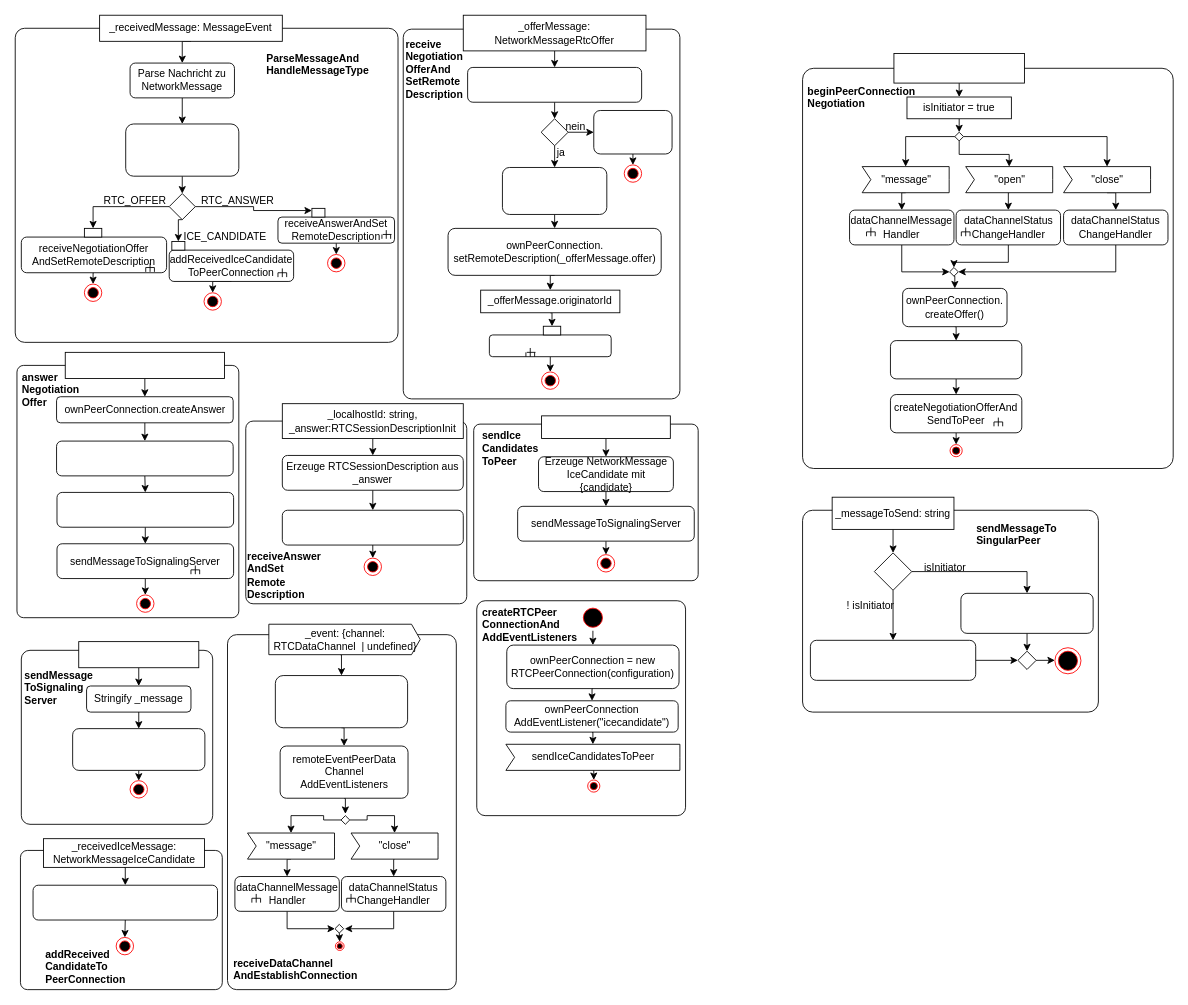
This 1188x1005 diagram has some shape labels left out. The shapes that lost their labels are listed below. From the top down, each one's centre as x and y in pixels, then its label:
point (554, 84): Hat der ClientManager eine ownPeerConnection?
point (958, 68): _userNameForOffer: string
point (182, 149): Behandle Nachricht entsprechend ihres MESSAGE_TYPE
point (632, 132): Gib eine Fehlermeldung aus
point (554, 190): ownPeerConnection addEventListener ("datachannel")
point (144, 364): _remoteIdToAnswerTo: string
point (550, 345): answerNegotiationOffer
point (956, 359): ownPeerConnection. setLocalDescription(offer)
point (605, 426): {candidate}: any
point (144, 458): ultimateAnswer: RTCSessionDescription
point (145, 509): ownPeerConnection.setLocal Description(ultimateAnswer)
point (372, 527): ownPeerConnection.setRemote Description(_answer)
point (1026, 612): ownPeerDataChannel. send(_messageToSend)
point (138, 654): _message: Object
point (893, 659): remoteEventPeerData Channel.send(_messageToSend)
point (341, 701): remoteEventPeerData Channel = _event.channel
point (138, 749): webSocketConnection ToSignalingServer. send(stringifiedMessage)
point (125, 902): ownPeerConnection.addIceCandidate (_receivedIceMessage.candidate)
